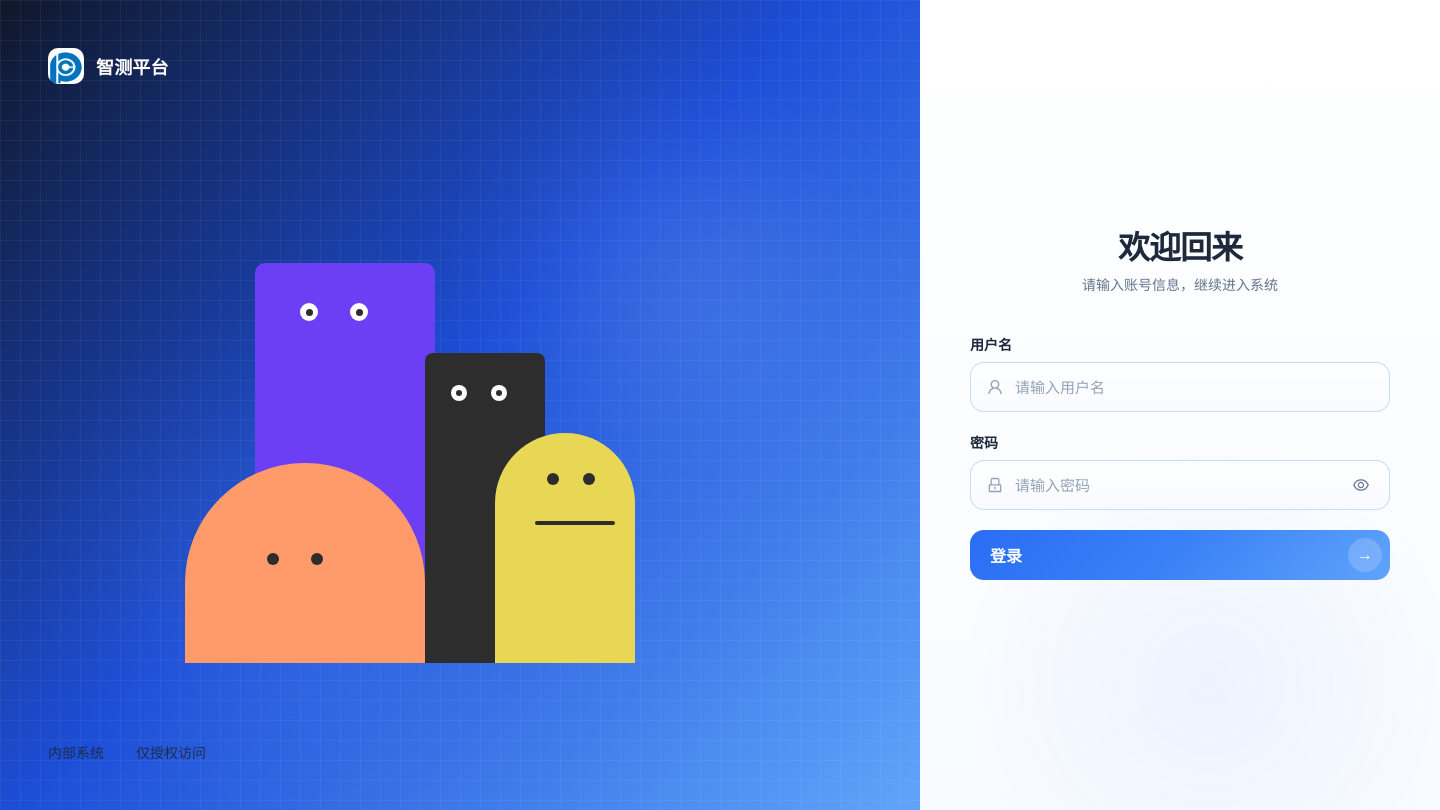
Test case: LoginPage › shows login error message
The image size is (1440, 810).
Type "admin" into the field with placeholder "请输入用户名".
click(1196, 387); type("admin")  # box [1003, 363, 1389, 411]
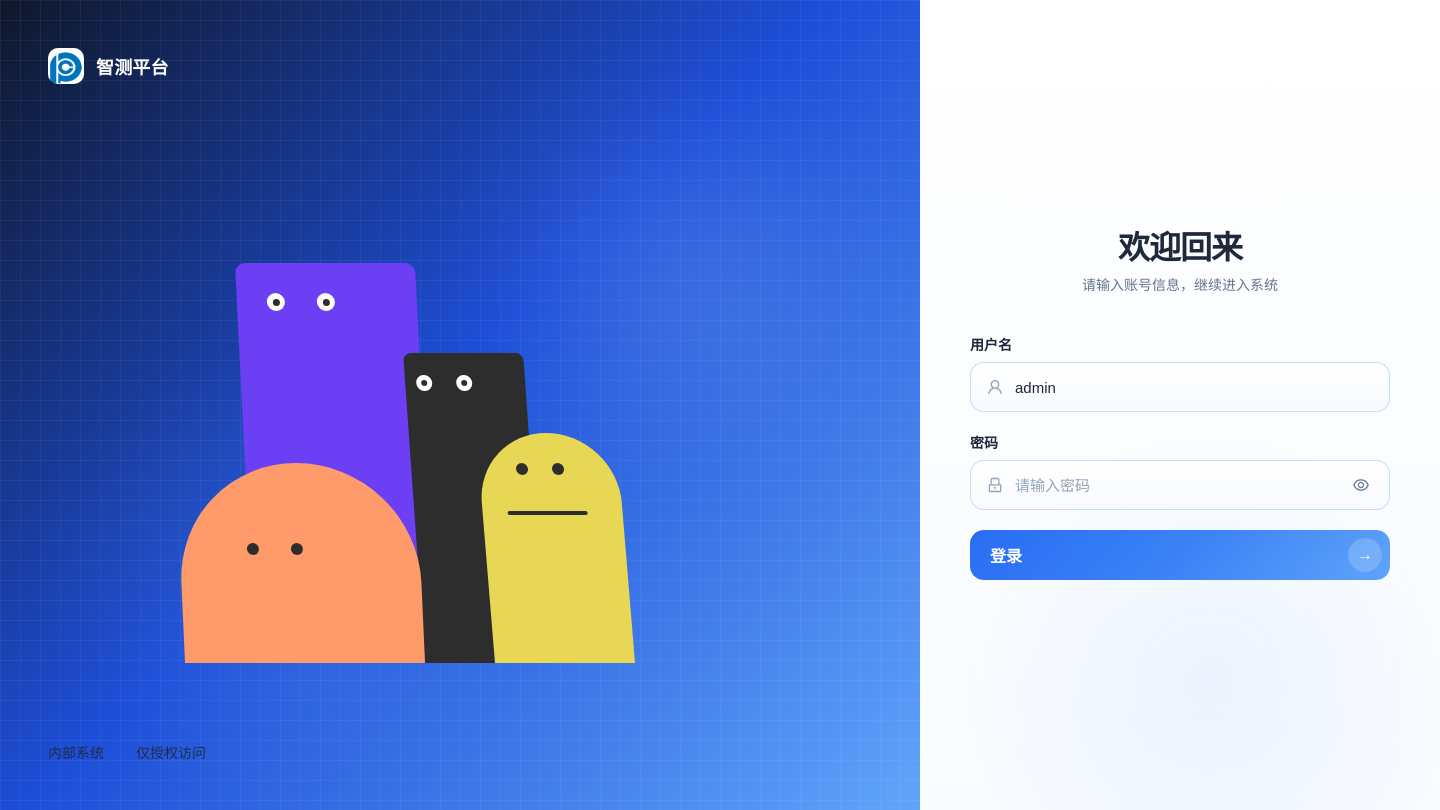
Type "bad" into the password field with placeholder "请输入密码".
click(1196, 485); type("bad")  # box [1003, 461, 1389, 509]
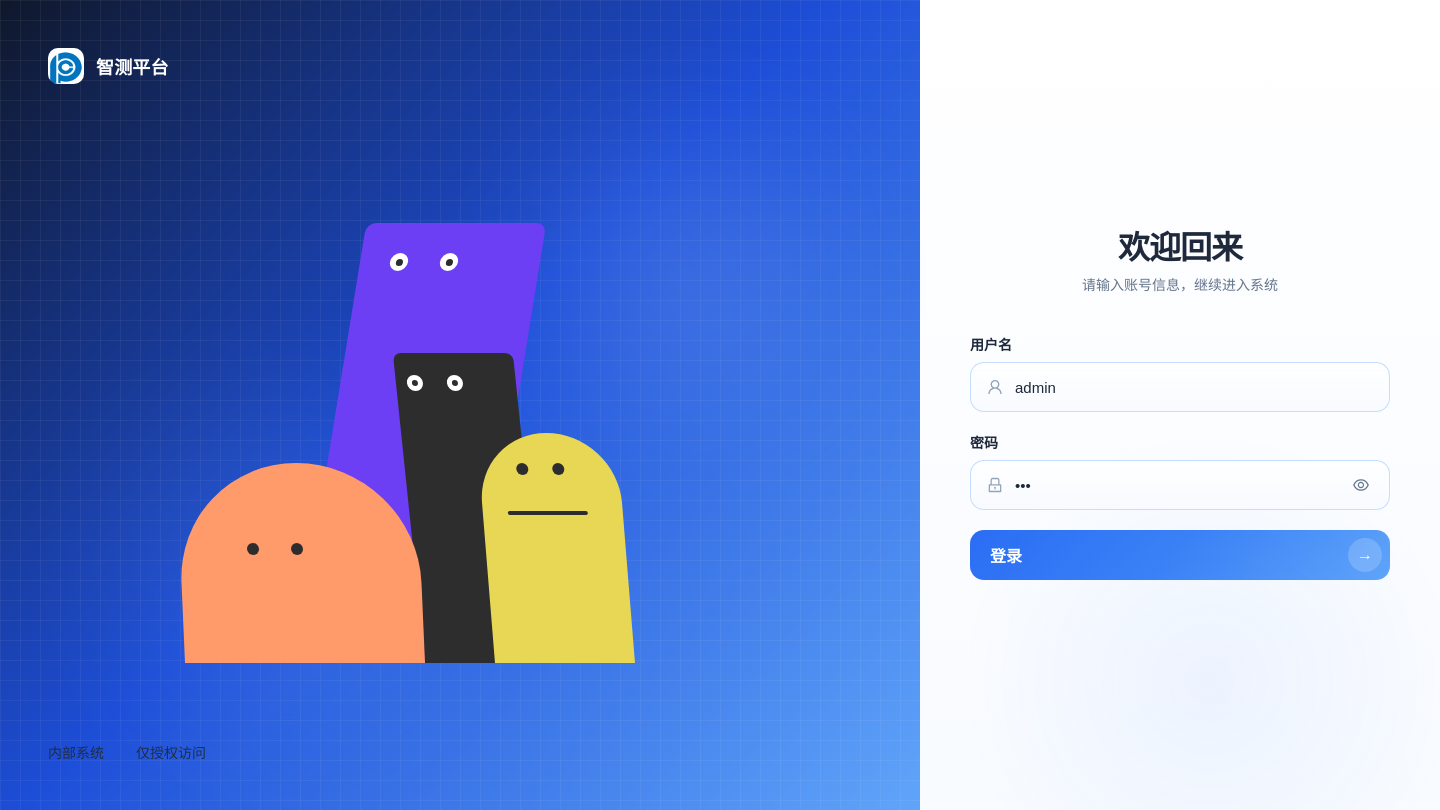
Click the button "登录 →".
click(1006, 557)  # box [970, 530, 1390, 580]
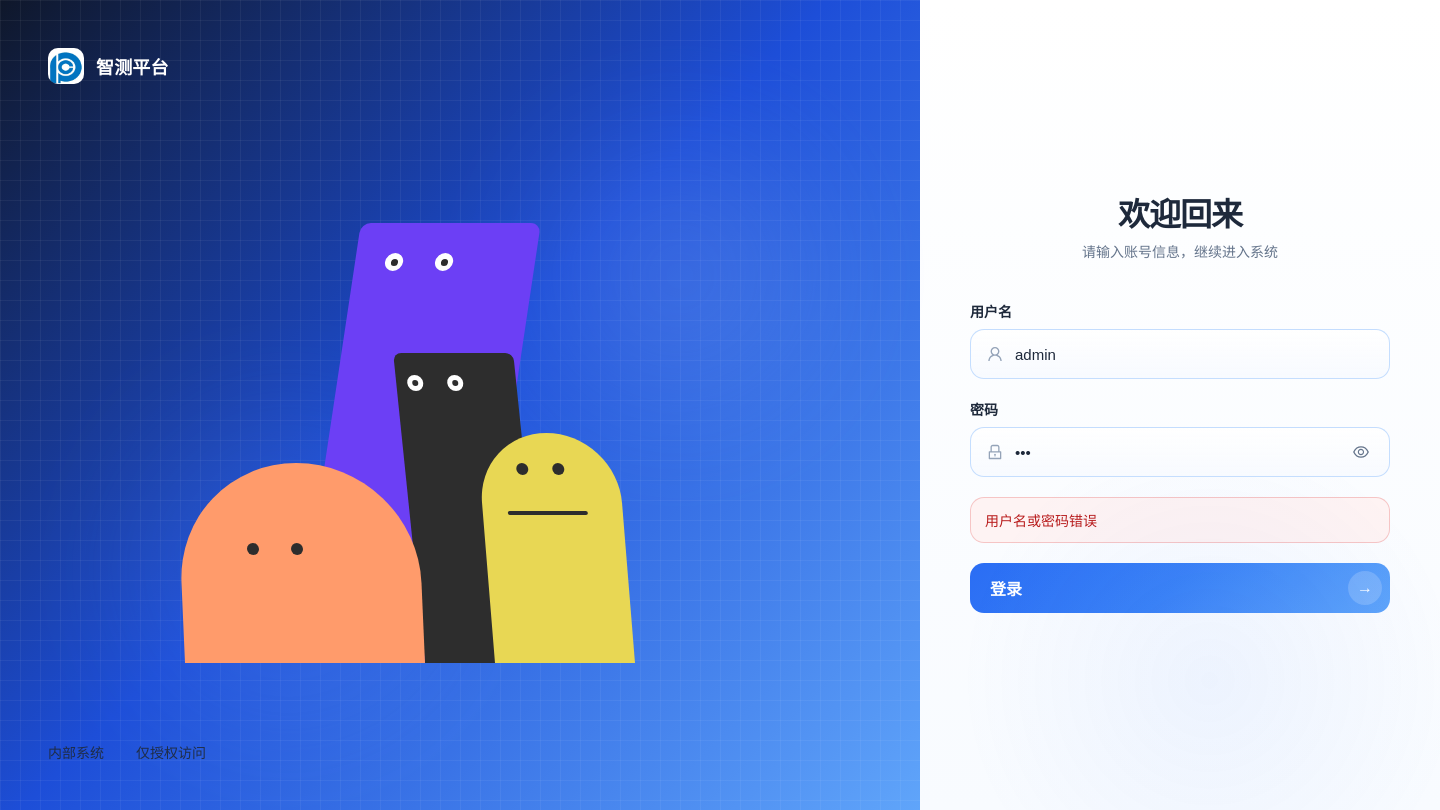
Expected: the text "用户名或密码错误" is shown, [970, 497, 1390, 543]
